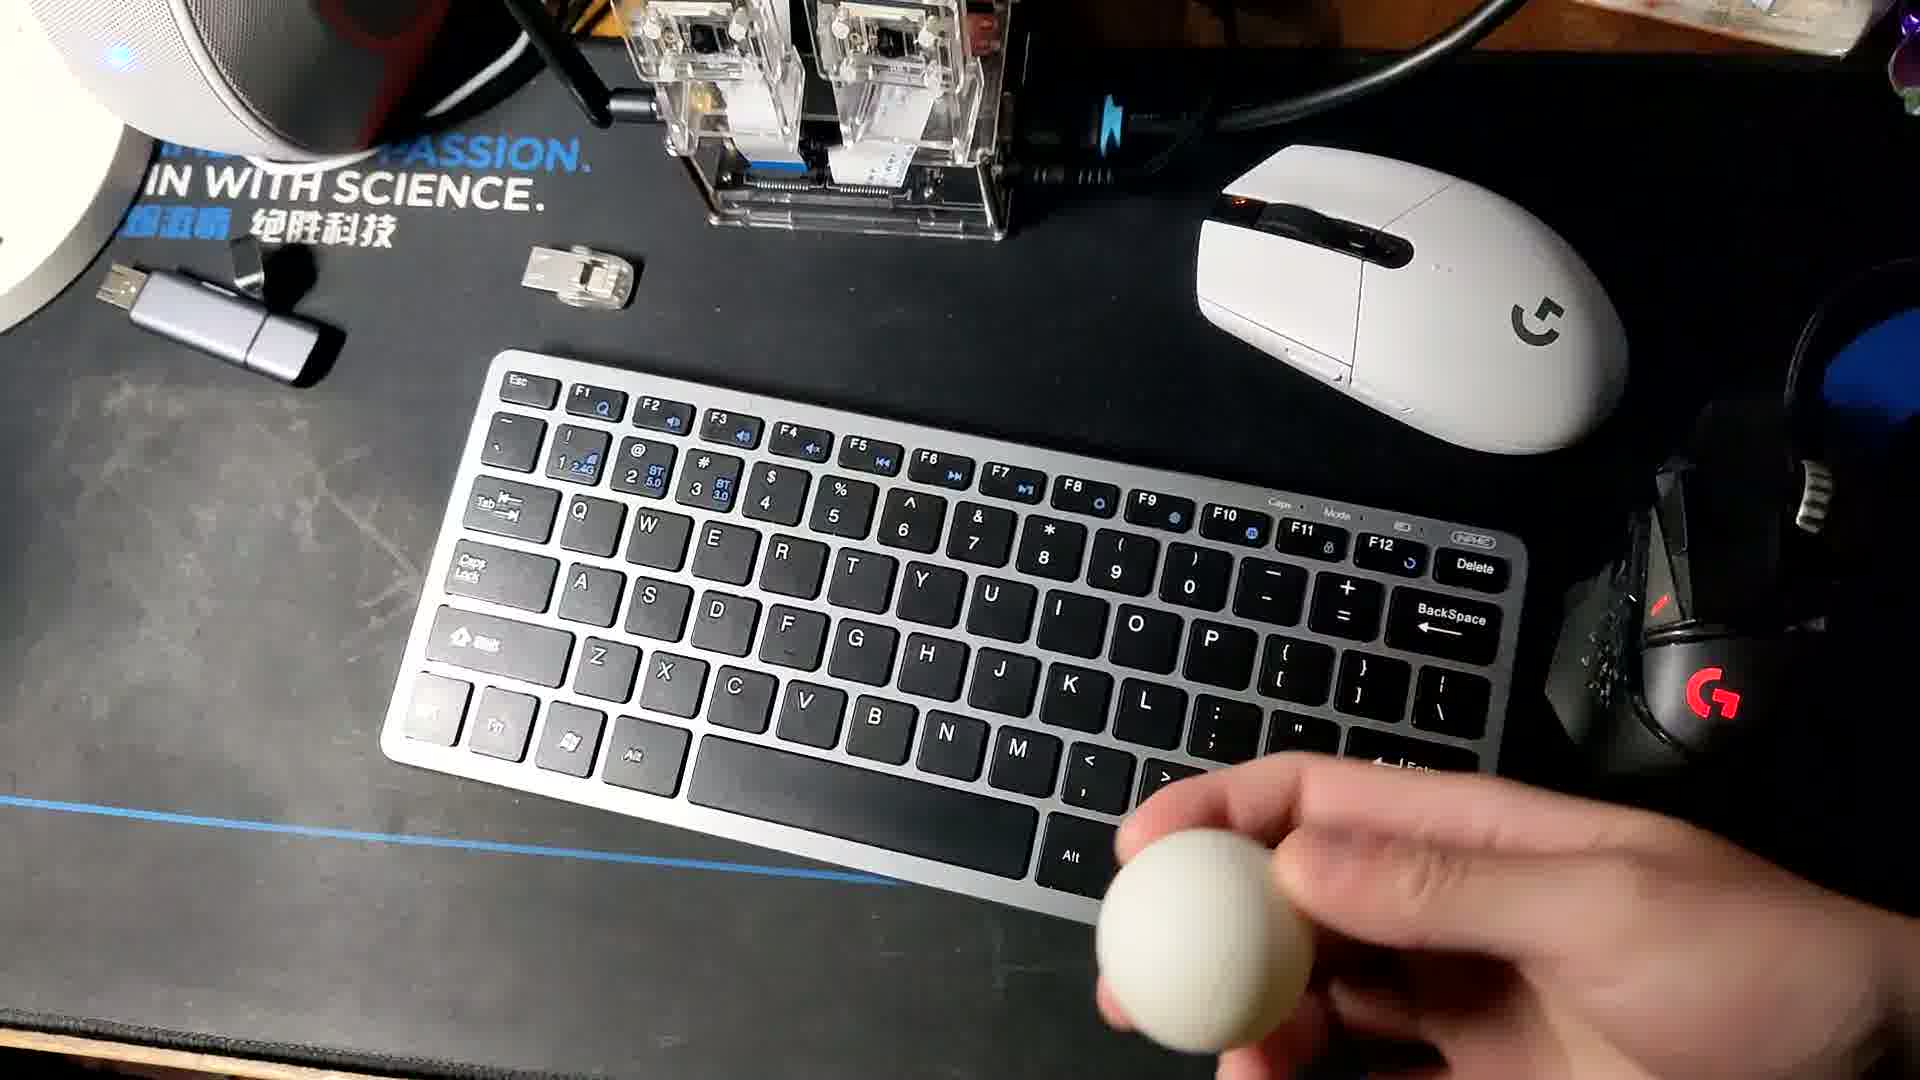Ball: (1088, 825, 1309, 1059)
